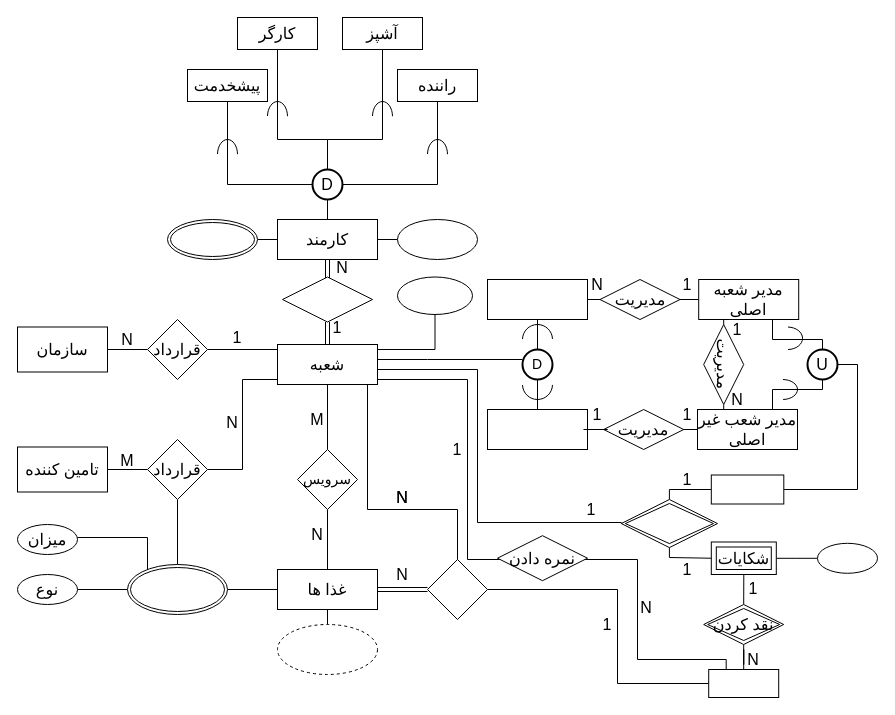
Image size: 895x715. Some labels were removed from this diagram. The shapes that lost their labels are listed below. From the top down, each one's centre as x and y in pixels, then its label:
point 212,239: ساعت کاری
point 437,239: دستمزد
point 327,299: استخدام
point 434,295: نمره
point 537,299: شعب تهران
point 537,429: شعب خارج تهران
point 747,489: مدیر
point 669,523: اعمال نمره
point 847,557: متن
point 177,589: مواد غذایی
point 457,589: خرید
point 327,649: قیمت
point 743,683: مشتری
